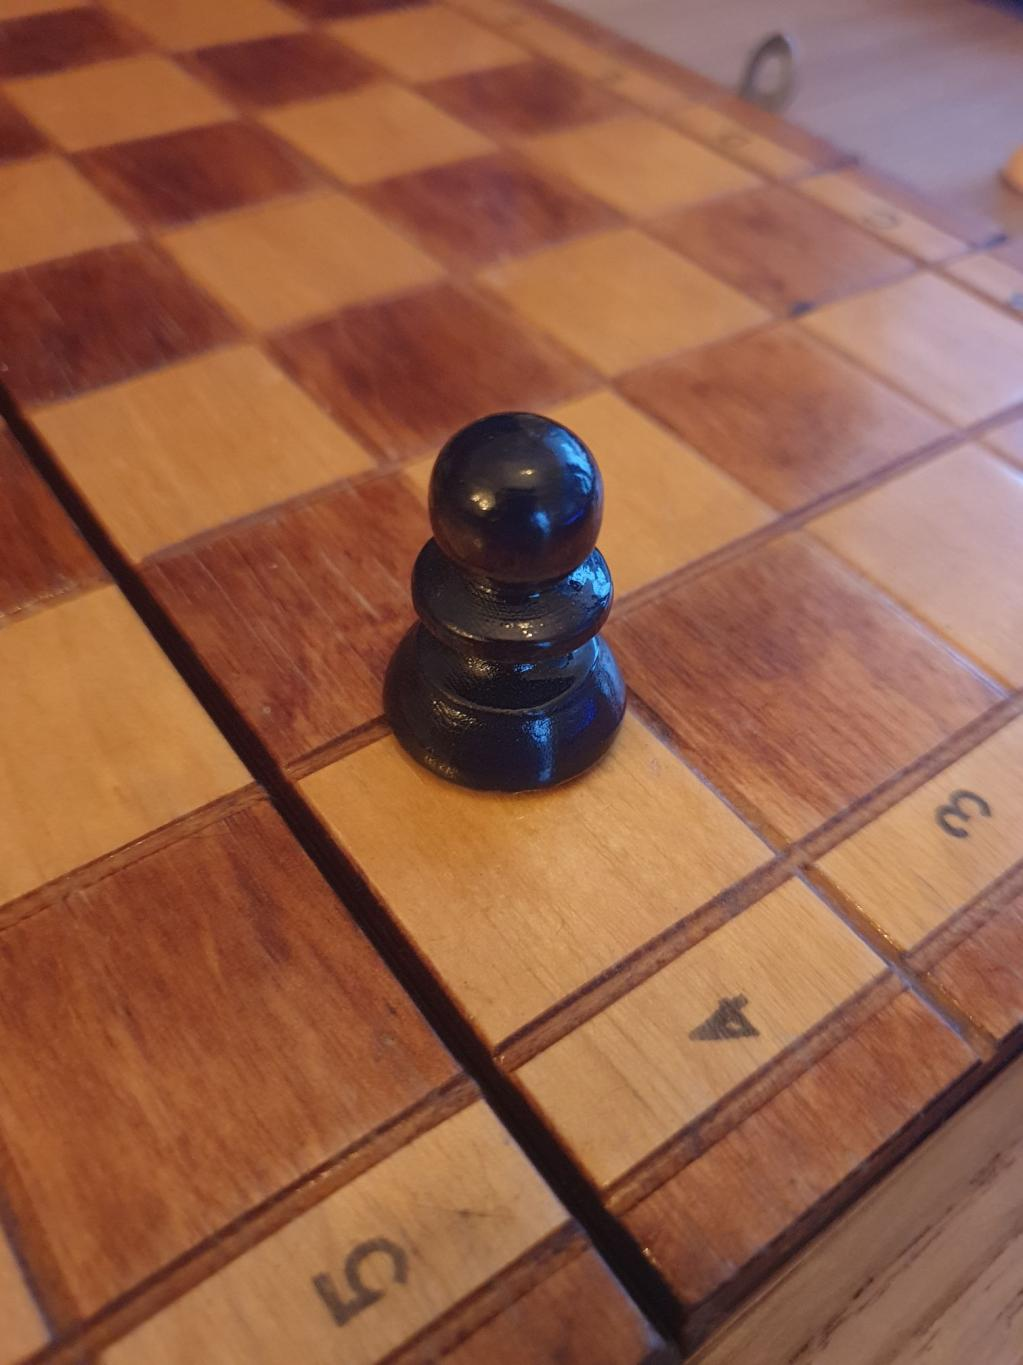bpawn: (381, 413, 626, 798)
